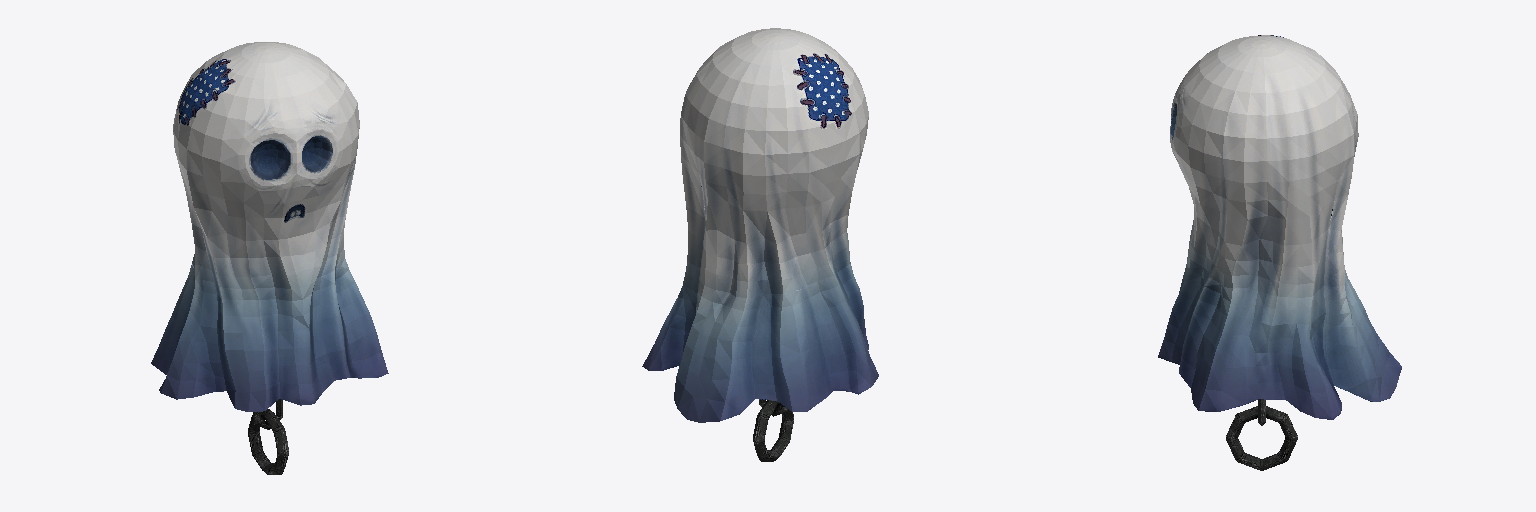
3 renders of one model, left to right at view 1: azimuth 30°, elevation 25°; view 2: azimuth 150°, elevation 25°; view 3: azimuth 270°, elevation 25°, orthographic.
Visible parts, largest first — view 1: phantom_cute; view 2: phantom_cute; view 3: phantom_cute.
Part boxes in pixels (x1,y1,x2,y2): phantom_cute: (151,42,388,474); phantom_cute: (642,28,878,461); phantom_cute: (1158,35,1401,470).
Size of the model in its own units: 1.28 by 2.62 by 1.36.
Materials: 1 (1 with a texture image).